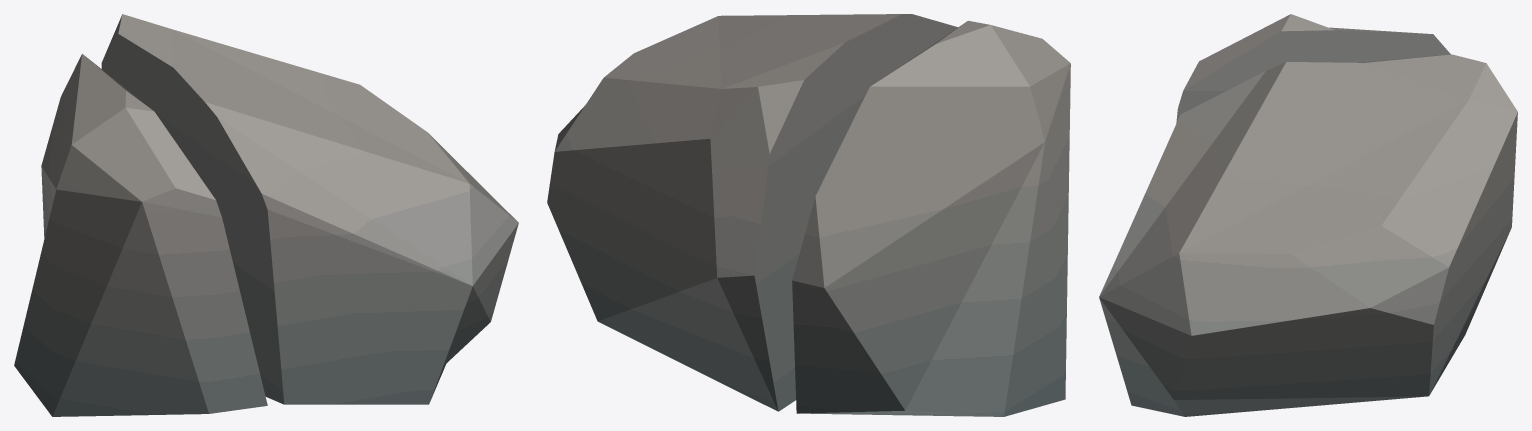
Rendered from Rock_013.fbx.
3 views of the same model, side by side, from view 1: azimuth 30°, elevation 25°; view 2: azimuth 150°, elevation 25°; view 3: azimuth 270°, elevation 25° (orthographic). The views are drawn at different scales.
Parts seen in each view (by area): view 1: Rock.013; view 2: Rock.013; view 3: Rock.013.
Boxes of the visible parts, bbox=[...] form: Rock.013: bbox=[14, 14, 518, 416]; Rock.013: bbox=[547, 14, 1070, 416]; Rock.013: bbox=[1099, 14, 1517, 416].
Size of the model in its own units: 2.54 by 1.75 by 2.29.
